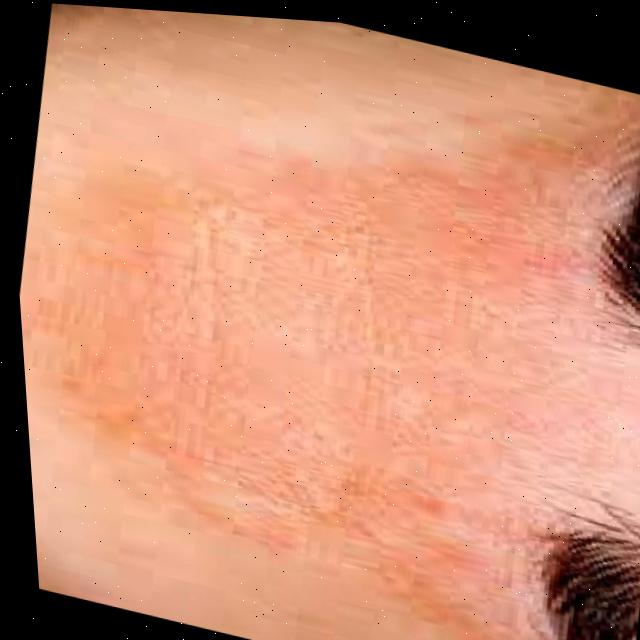Melasma: (0, 2, 640, 640)
